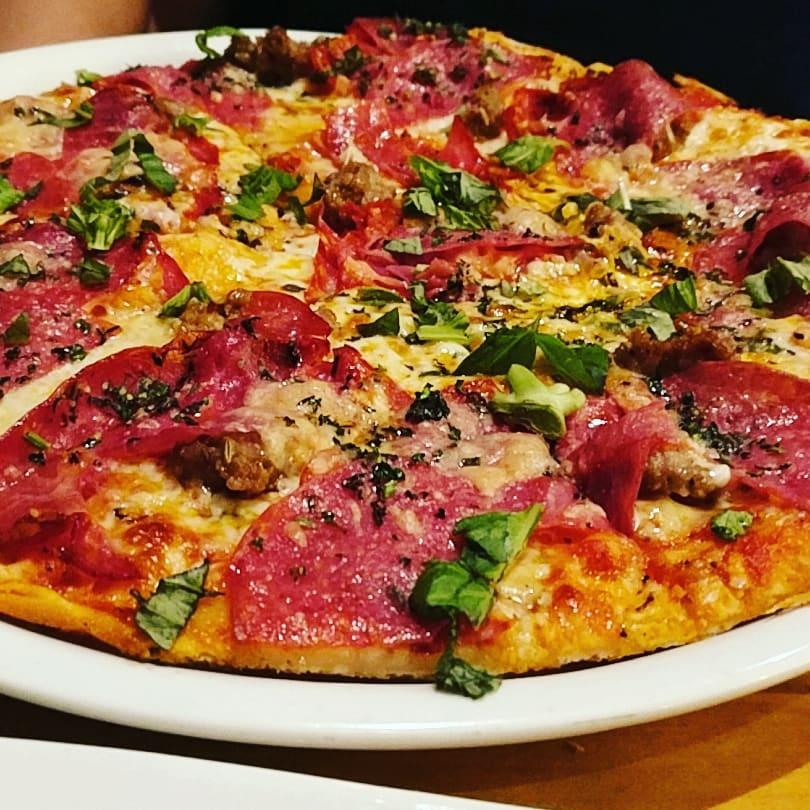Basil: (411, 504, 537, 624), (453, 331, 610, 395), (404, 155, 499, 230), (141, 564, 201, 647), (110, 129, 176, 191), (72, 196, 128, 250), (233, 166, 283, 220)
Ham: (225, 456, 491, 643), (0, 334, 247, 514), (0, 152, 188, 321), (659, 355, 810, 519), (311, 196, 578, 286), (148, 298, 359, 409), (310, 23, 484, 135), (548, 398, 659, 545), (686, 152, 810, 280), (71, 71, 261, 151), (541, 66, 684, 167)
Pizza: (0, 0, 810, 679)
